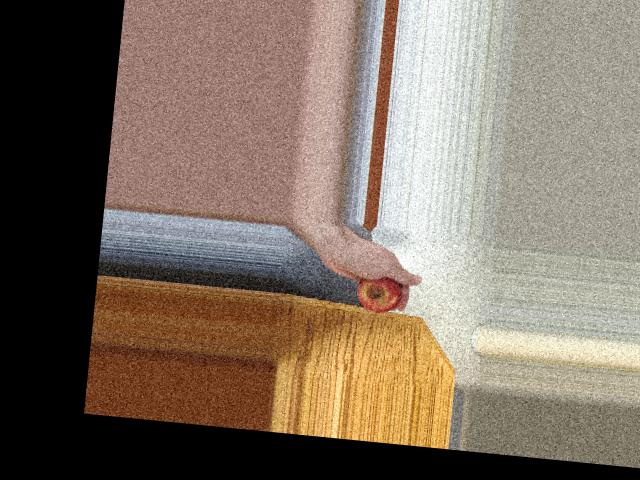apple: (345, 267, 405, 316)
